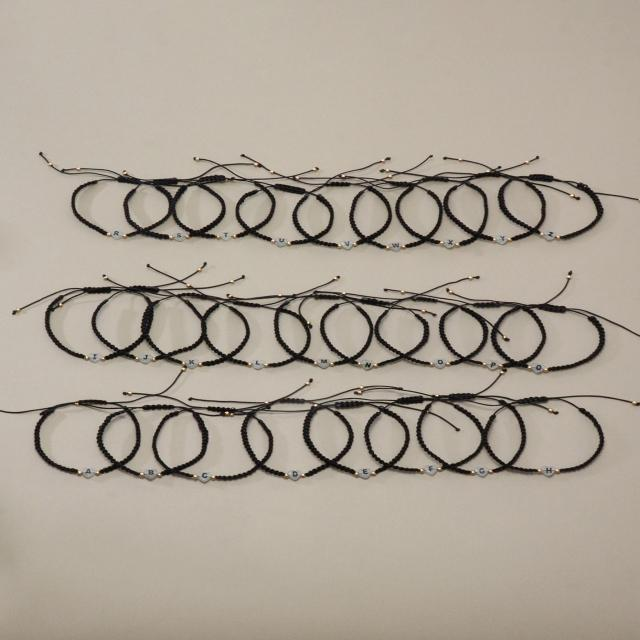bracelet: (0, 100, 640, 273), (0, 236, 640, 391), (0, 359, 640, 493)
